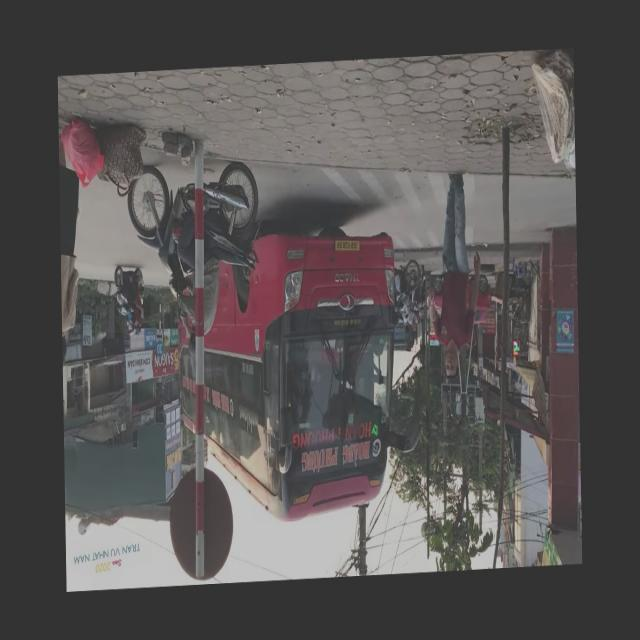bien_vang: (334, 238, 361, 255)
